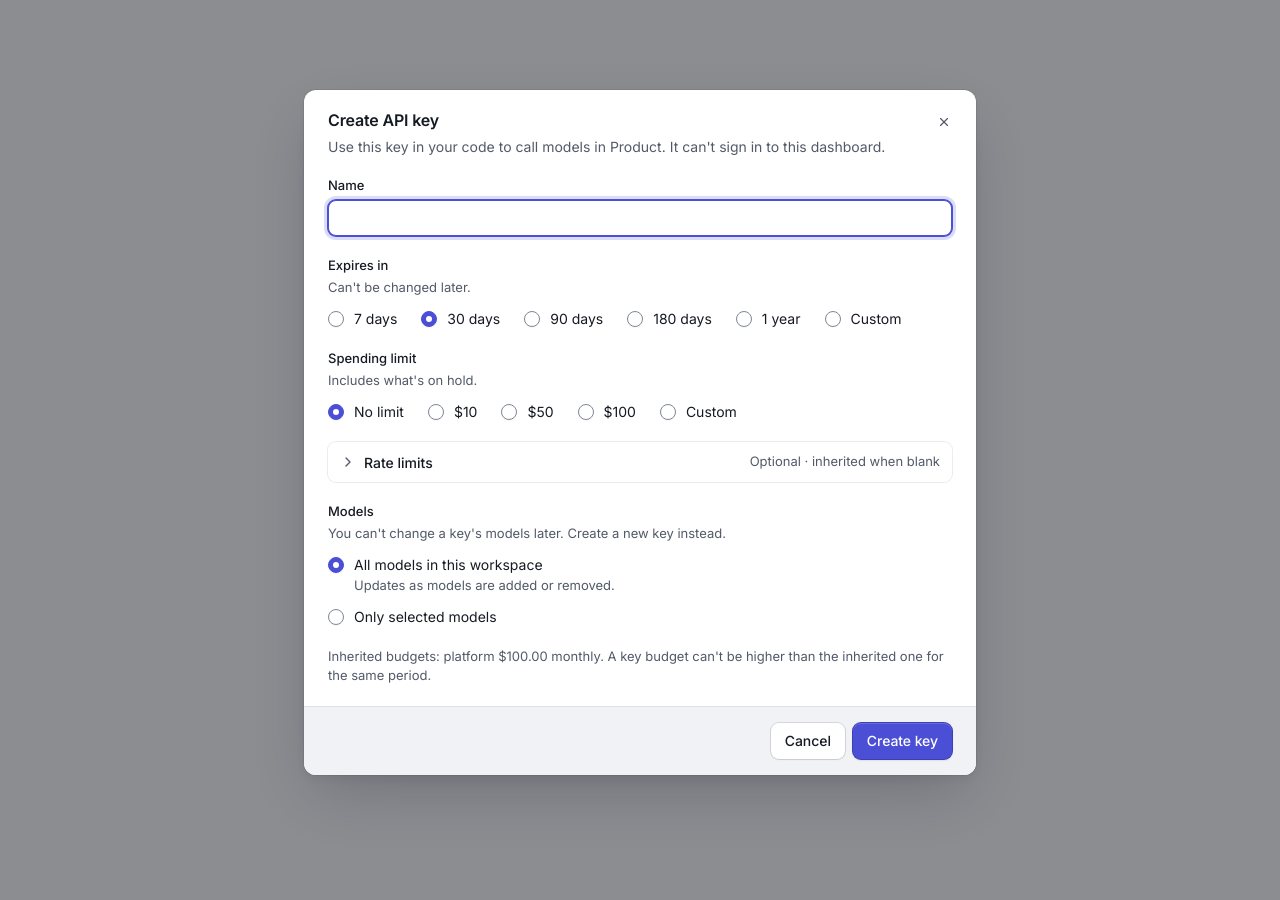
Test: Create key sends its limits in the create request › shows a named rejection on the field it concerns and creates nothing
In the field labelled "Name": (640, 218) [328,200,952,236], type "CI"
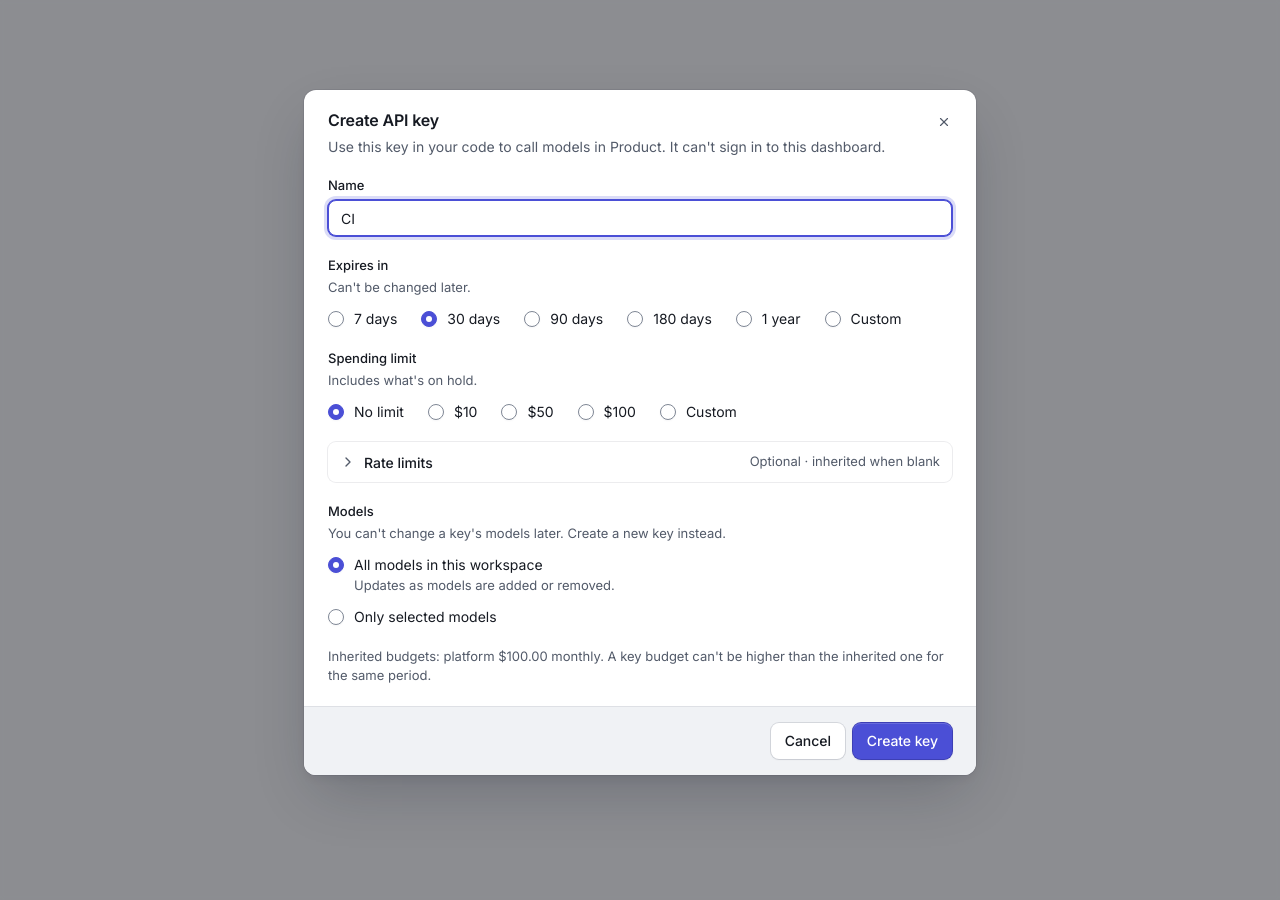
Click the button "Rate limits Optional · inherited when blank": (398, 462) [328,442,952,482]
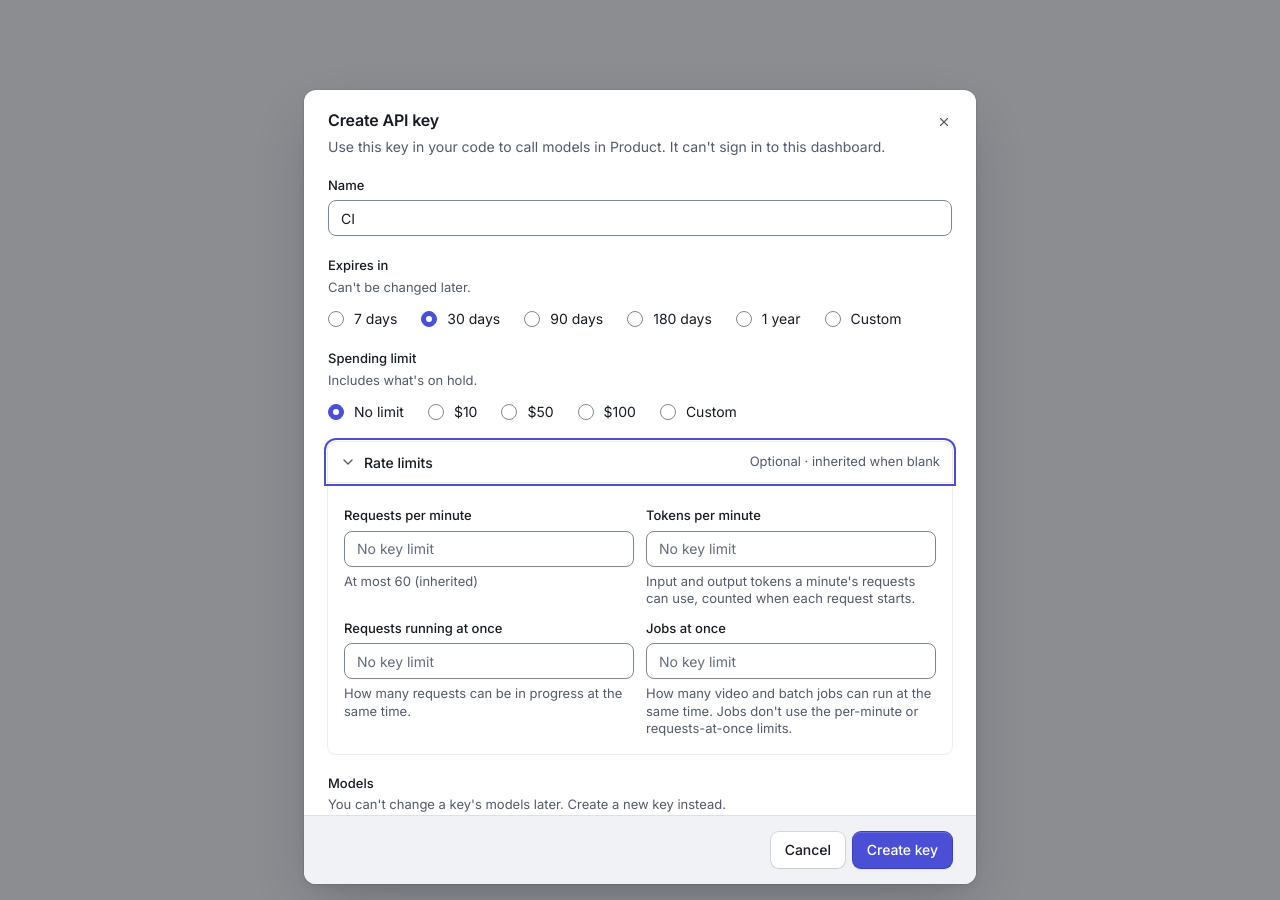
In the field labelled "Tokens per minute": (791, 549) [646,531,936,567], type "5000"
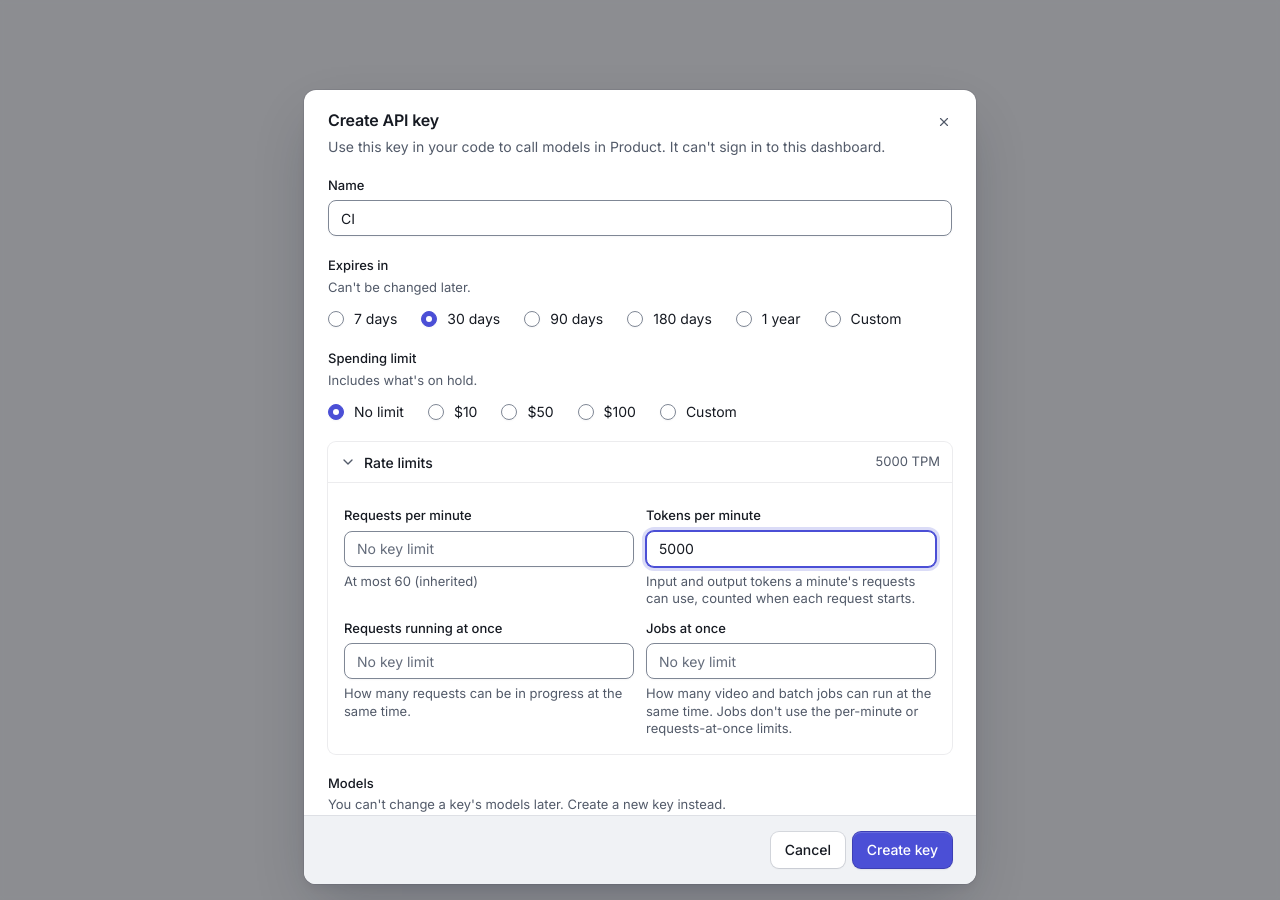
Click the button "Create key": (902, 850) [853,832,952,868]
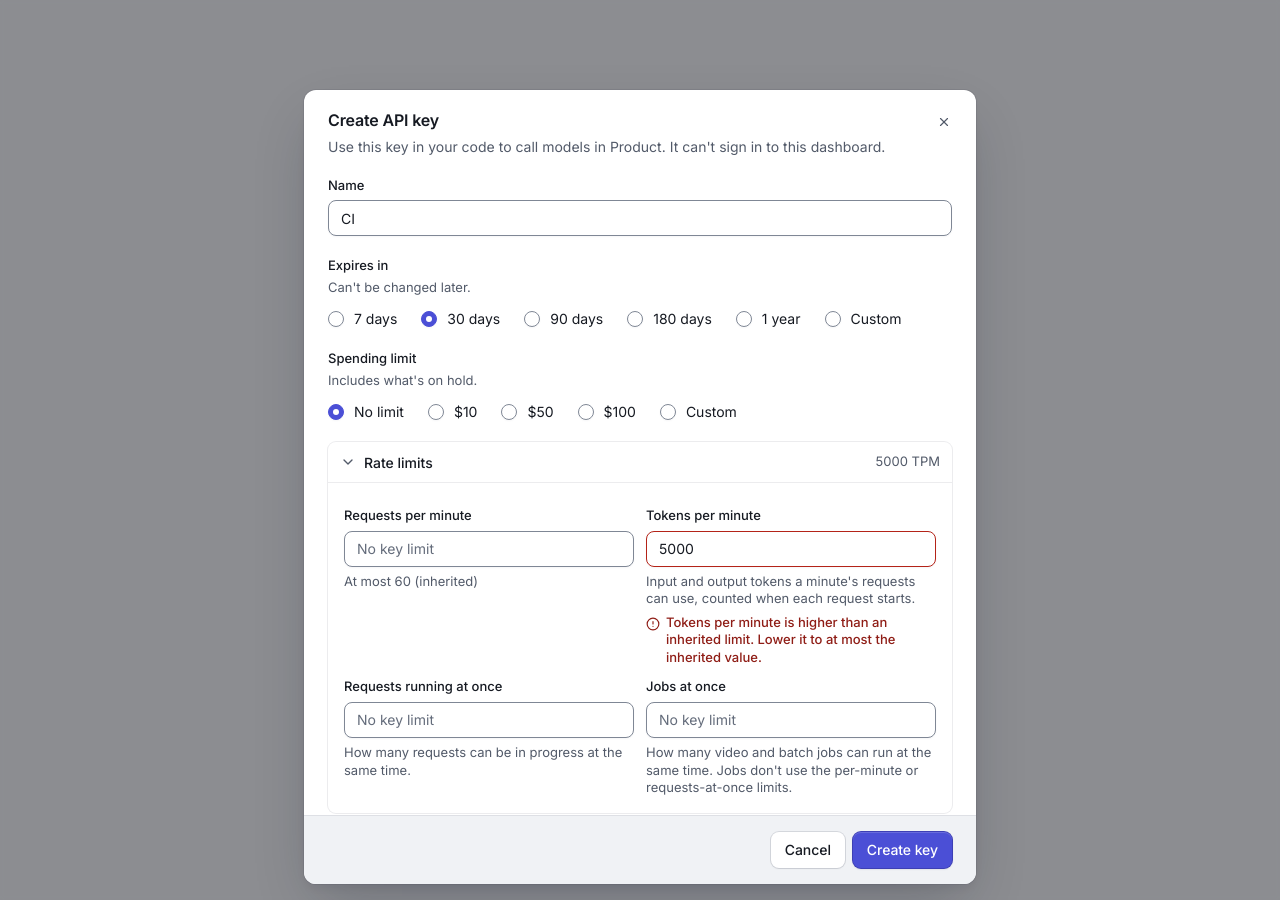
Now the text "Tokens per minute is higher than an inherited limit. Lower it to at most the inherited value." is shown, box [666,614,895,665]
In the field labelled "Tokens per minute": (791, 549) [646,531,936,567], type "0"
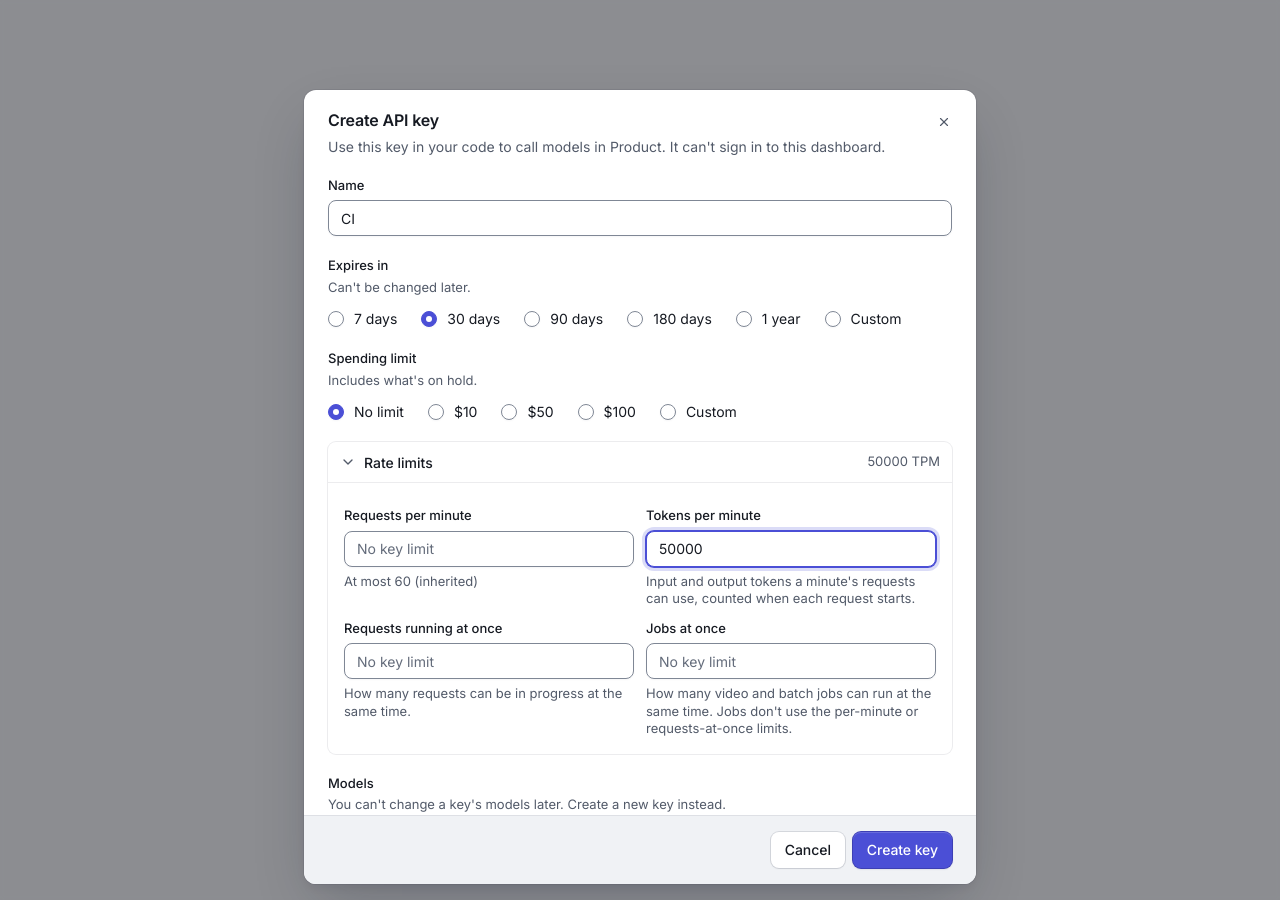
Now the text "Tokens per minute is higher than an inherited limit" is gone
